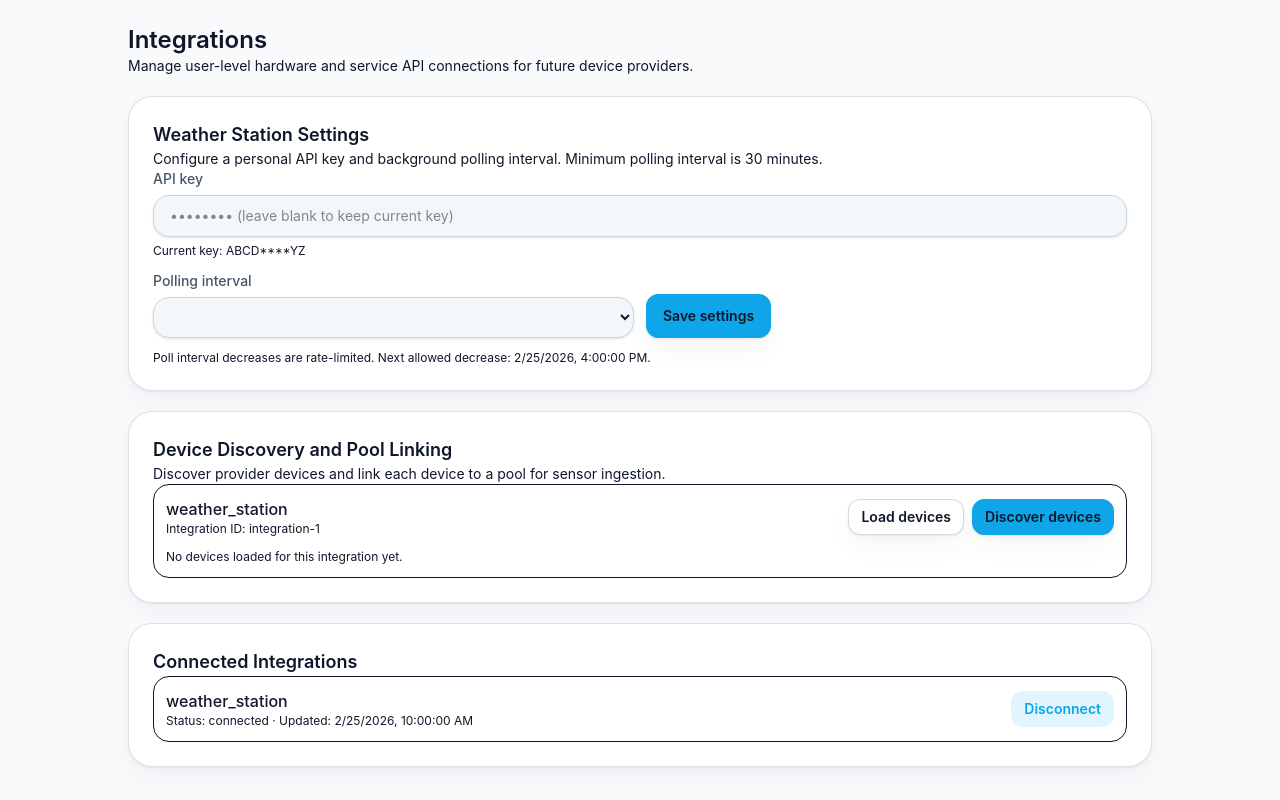
integrations page › saves weather-station settings with provider credentials
Type "new-weather-key" into the password field labelled "API key" at (640, 216), box [153,195,1127,237]
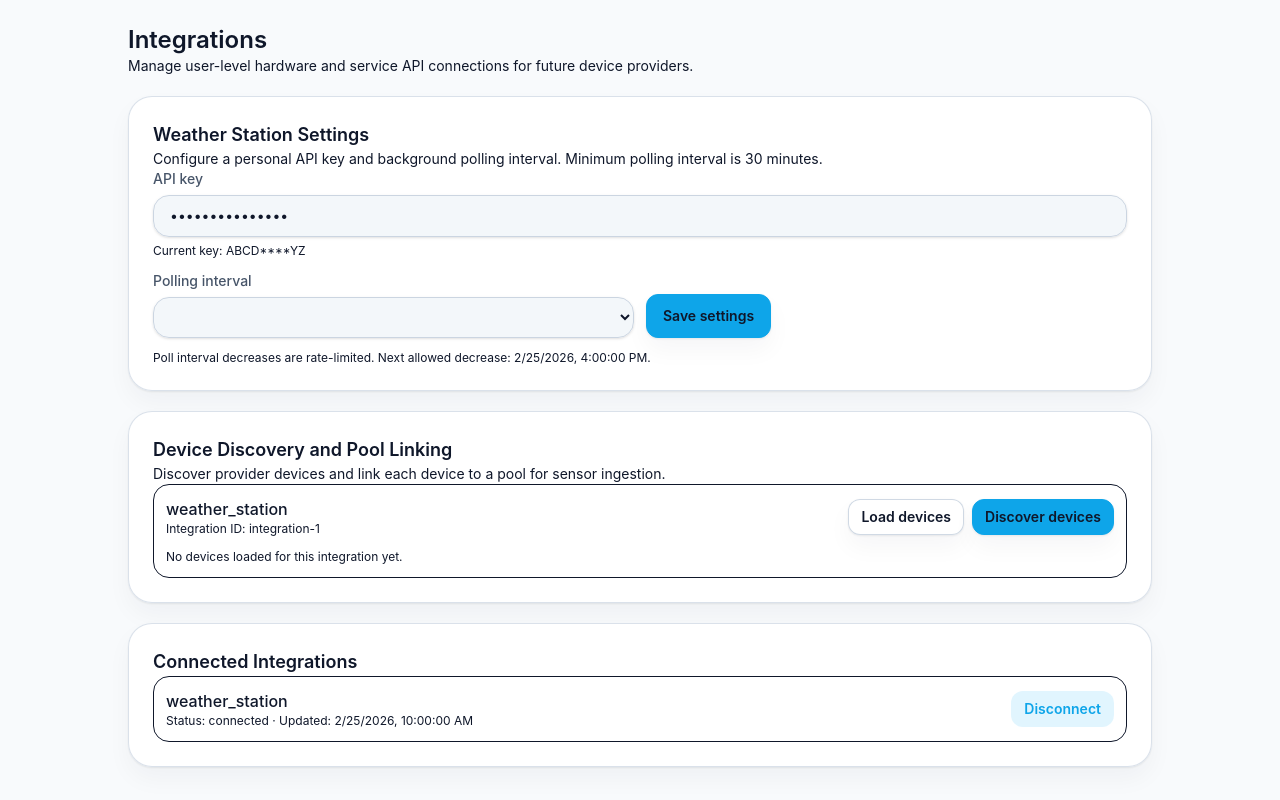
Select "Every 60 minutes" in the dropdown labelled "Polling interval" at (394, 318), box [153,297,634,338]
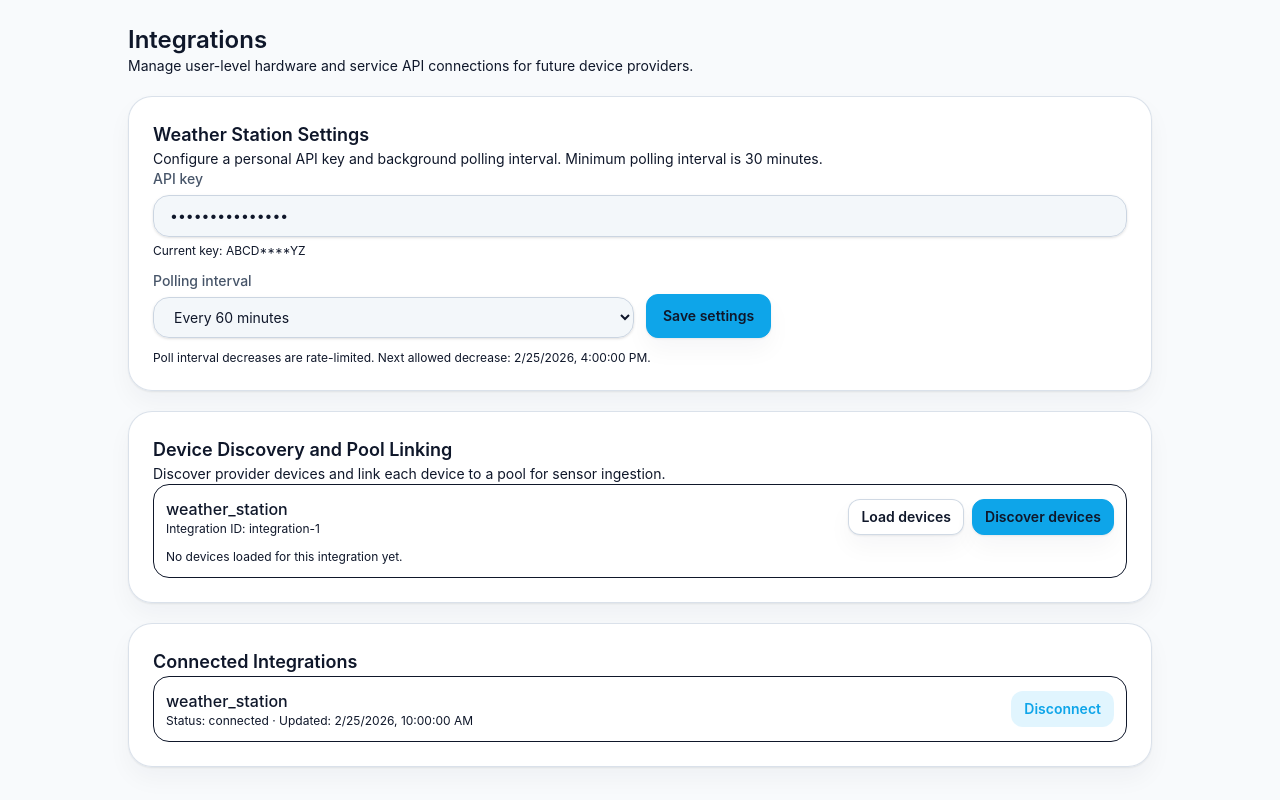
Click the button "Save settings" at (709, 316), box [646,294,771,338]
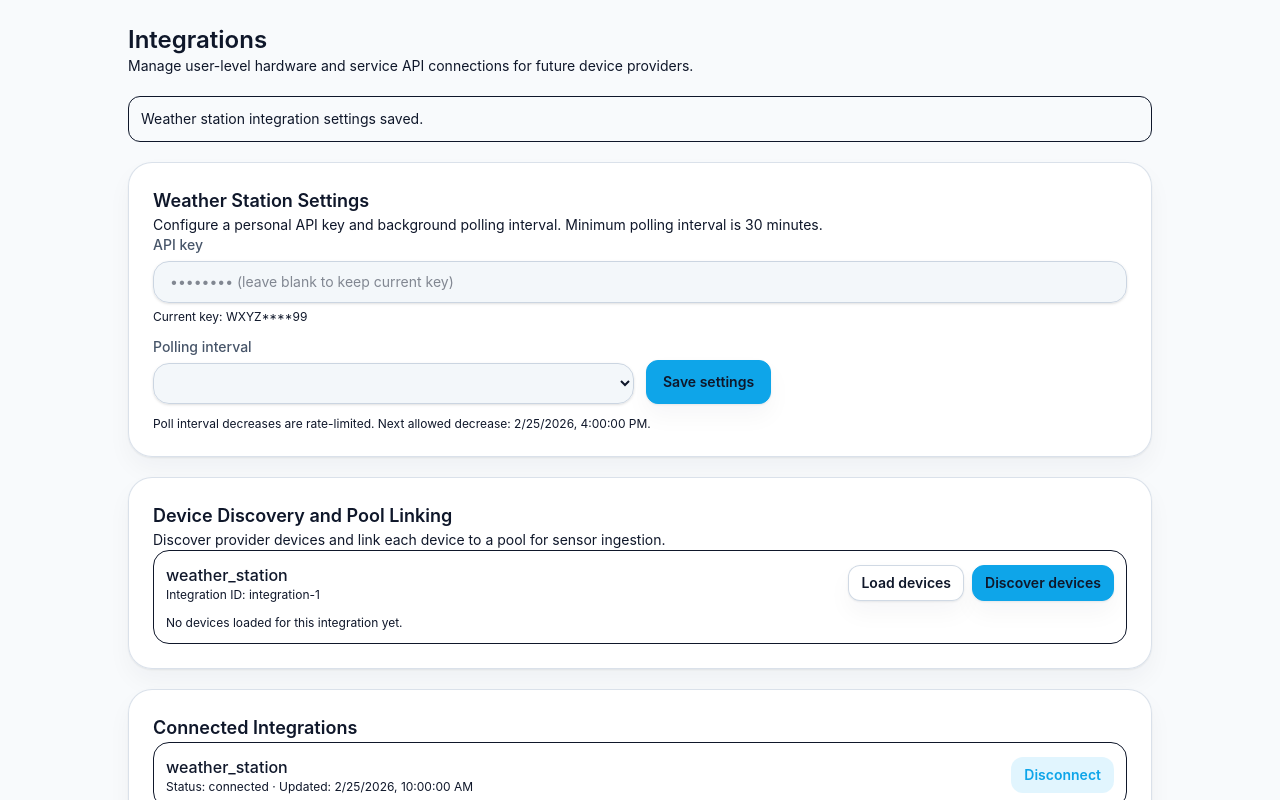
expect the message shows "saved": met, box [141,110,423,127]
